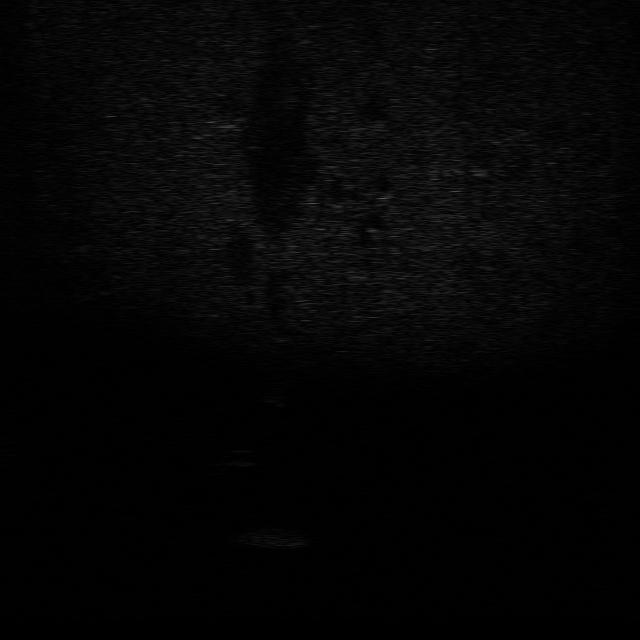ball: (218, 444, 262, 469)
circle cage: (228, 522, 314, 552)
human body: (256, 377, 288, 428)
